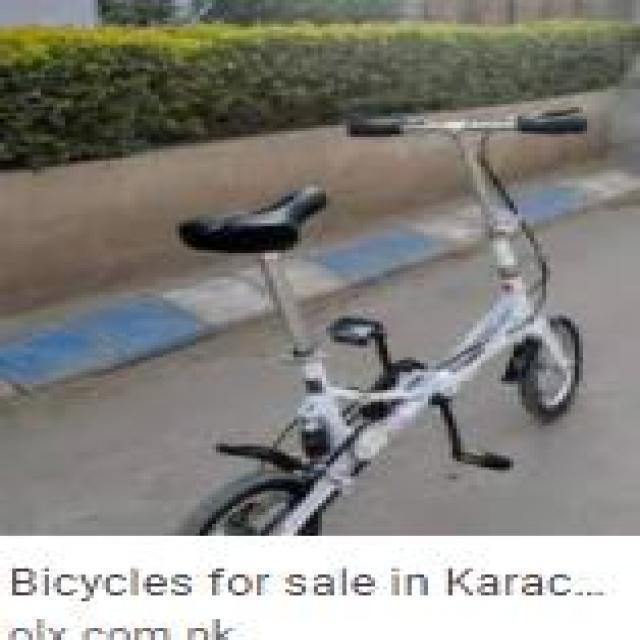bicycle: (164, 108, 605, 525)
